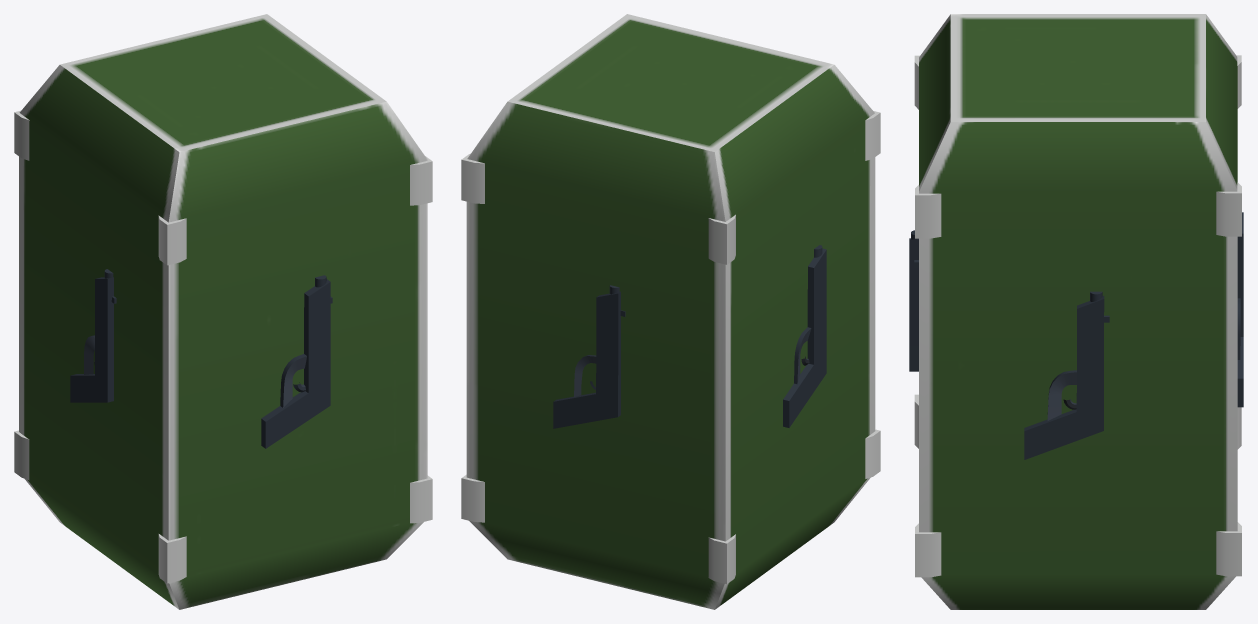
File: pistol box model.fbx
3 views of the same model, side by side, from view 1: azimuth 30°, elevation 25°; view 2: azimuth 150°, elevation 25°; view 3: azimuth 270°, elevation 25° (orthographic). The views are drawn at different scales.
Visible parts, largest first — view 1: polySurface60; view 2: polySurface60; view 3: polySurface60.
Part boxes in pixels (x1,y1,x2,y2): polySurface60: [14, 14, 432, 609]; polySurface60: [461, 14, 880, 609]; polySurface60: [909, 14, 1243, 609].
Size of the model in its own units: 20.98 by 33.79 by 20.98.
1 material, 1 textured.
